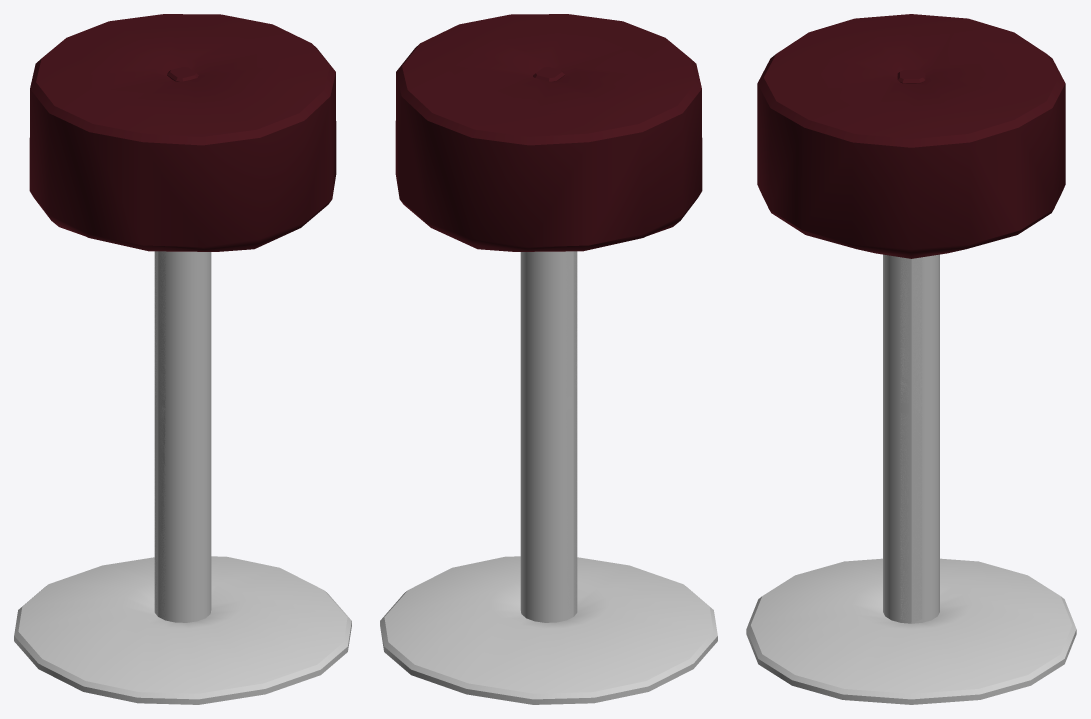
Rendered from chairCTF.fbx.
3 views of the same model, side by side, from view 1: azimuth 30°, elevation 25°; view 2: azimuth 150°, elevation 25°; view 3: azimuth 270°, elevation 25° (orthographic).
Parts seen in each view (by area): view 1: Cylinder; view 2: Cylinder; view 3: Cylinder.
Boxes of the visible parts, <box> form: Cylinder: <box>14,14,351,704</box>; Cylinder: <box>380,14,717,704</box>; Cylinder: <box>746,14,1076,704</box>.
Size of the model in its own units: 42.8 by 79.77 by 42.41.
